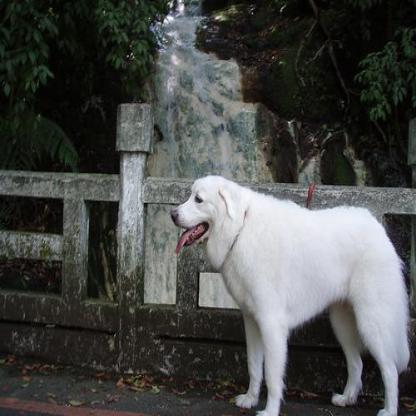Great_Pyrenees: (168, 173, 409, 414)
